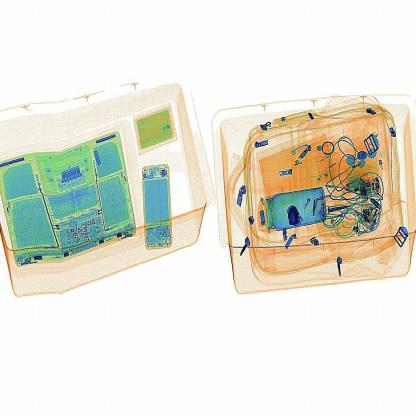scissors: (282, 192, 309, 232)
